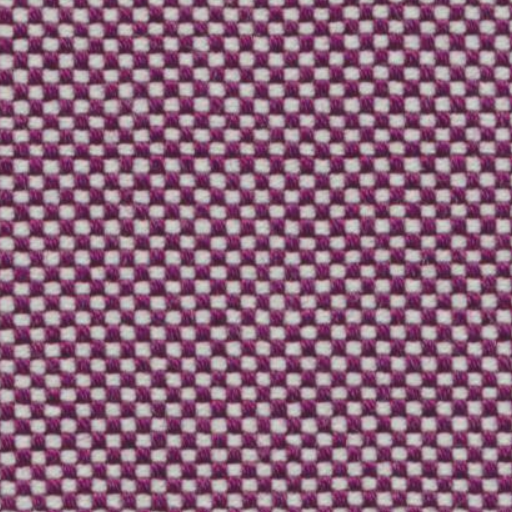TuoSha: (6, 107, 496, 184)
